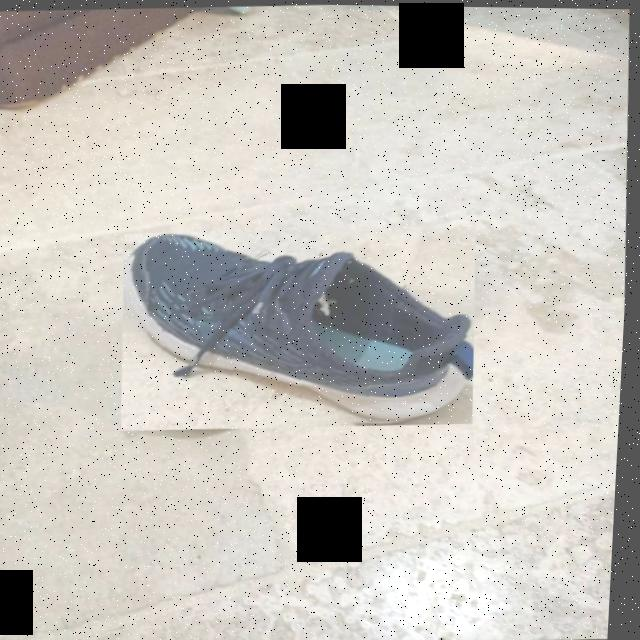shoe: (118, 221, 485, 434)
